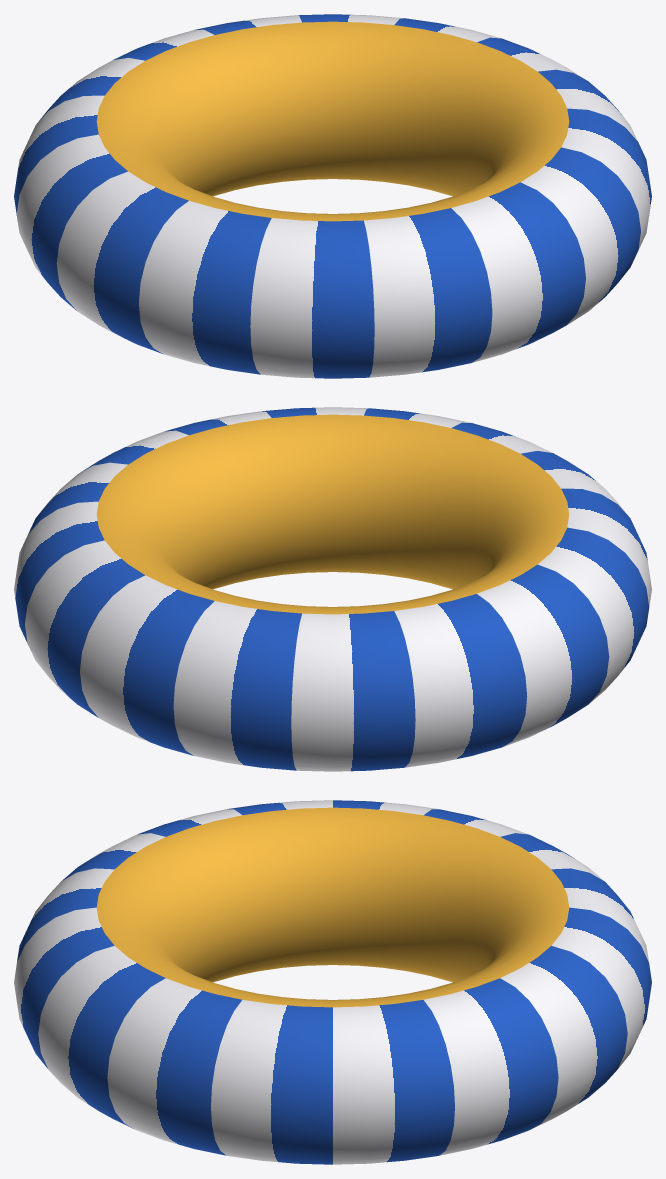
The picture shows the model from 3 angles, top to bottom: view 1: azimuth 30°, elevation 25°; view 2: azimuth 150°, elevation 25°; view 3: azimuth 270°, elevation 25°; orthographic projection.
Parts seen in each view (by area): view 1: Torus; view 2: Torus; view 3: Torus.
Boxes of the visible parts, left/top/right/bottom form: Torus: left=14, top=14, right=651, bottom=378; Torus: left=14, top=407, right=651, bottom=771; Torus: left=14, top=800, right=651, bottom=1164.
Bounding box in the file's own units: 2.7 × 0.7 × 2.7.
2 materials, 1 textured.
